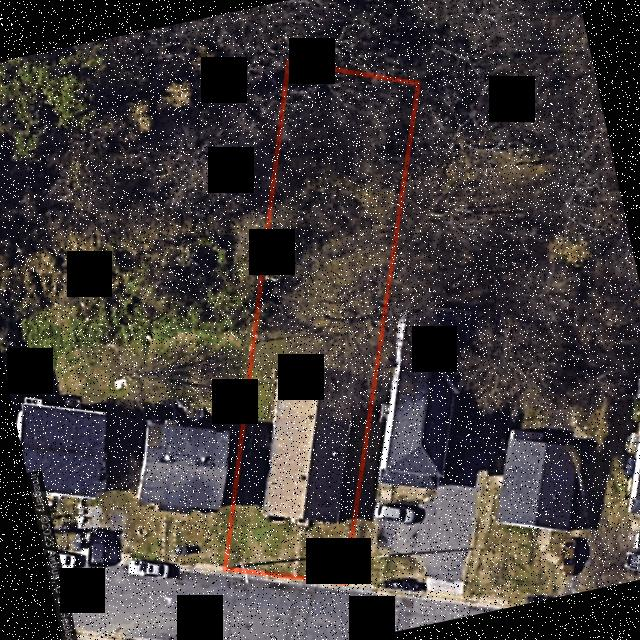House: (260, 374, 352, 524)
